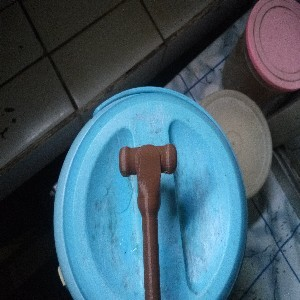palu: (118, 141, 178, 300)
